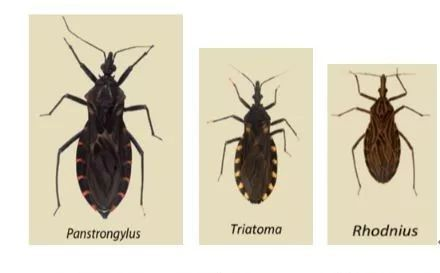chunchong: (42, 37, 161, 216), (214, 66, 296, 205), (347, 70, 425, 202)
